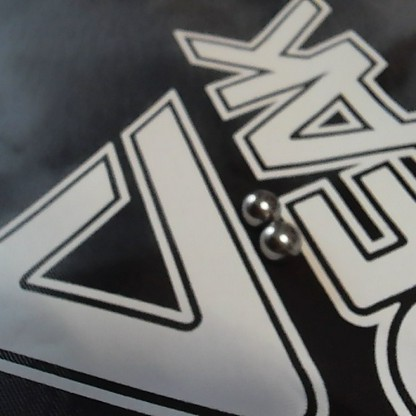ironball: (261, 221, 300, 257), (243, 188, 278, 223)
